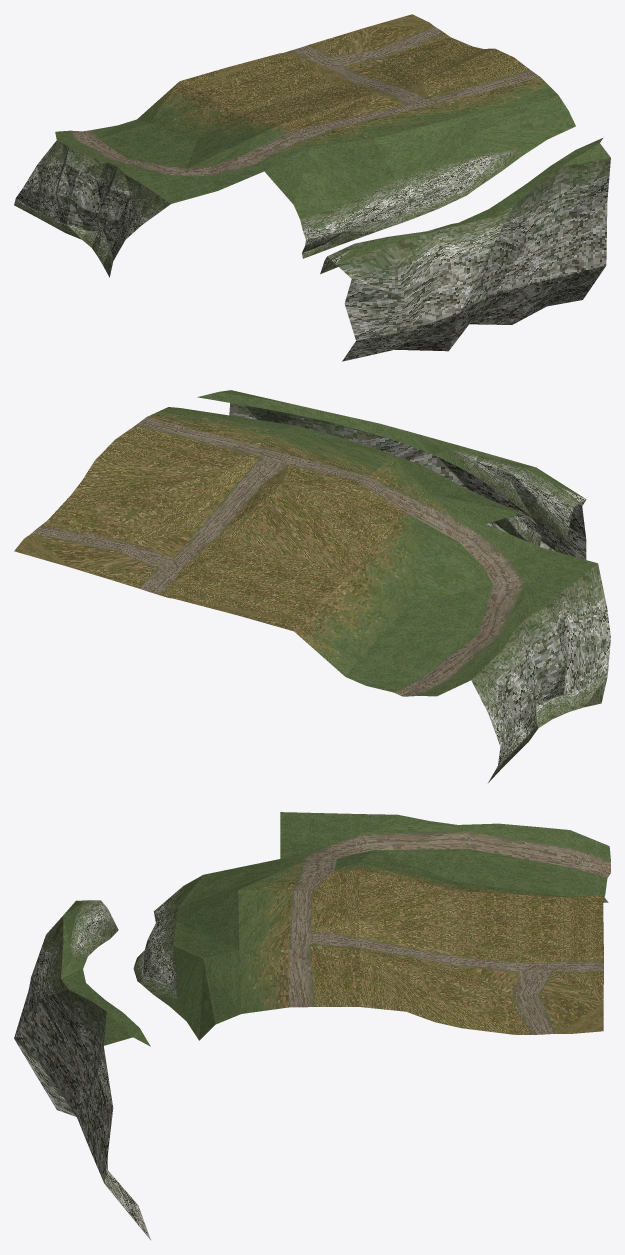
The model's file is lodce_ground01.obj.
The picture shows the model from 3 angles, top to bottom: view 1: azimuth 30°, elevation 25°; view 2: azimuth 150°, elevation 25°; view 3: azimuth 270°, elevation 25°; orthographic projection. The views are drawn at different scales.
Visible parts, largest first — view 1: LODCE_ground01; view 2: LODCE_ground01; view 3: LODCE_ground01.
Part boxes in pixels (x1=…): LODCE_ground01: x1=14, y1=14, x2=610, y2=361; LODCE_ground01: x1=14, y1=390, x2=610, y2=782; LODCE_ground01: x1=14, y1=812, x2=610, y2=1239.
Bounding box in the file's own units: 283 × 118 × 265.
7 materials, 7 textured.
